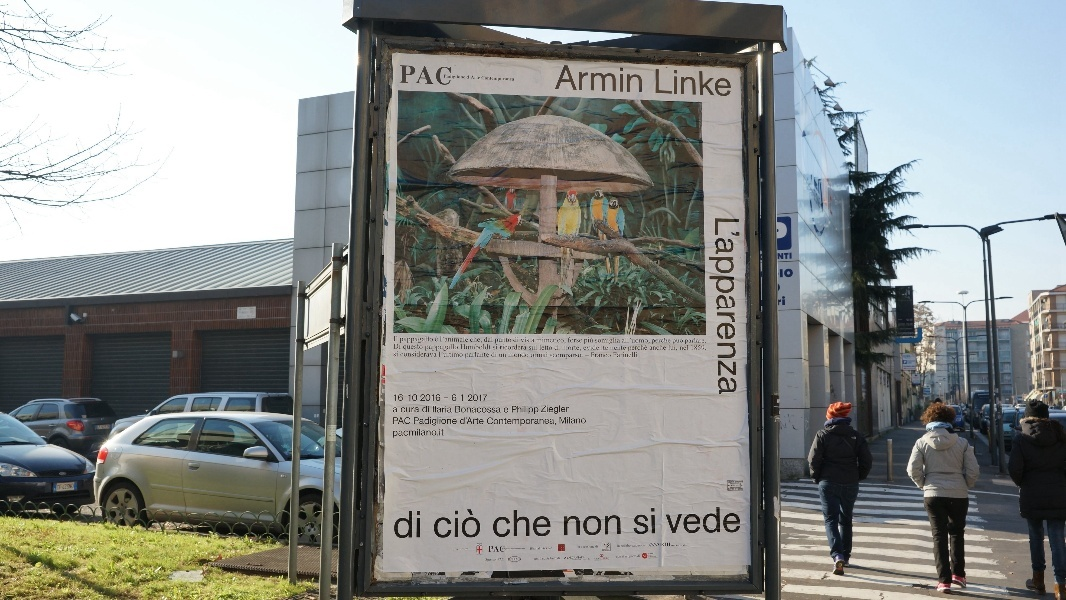text: (705, 217, 720, 398), (721, 217, 736, 398), (737, 217, 744, 398), (449, 504, 464, 539), (465, 504, 480, 539), (434, 504, 448, 539), (401, 509, 416, 539), (497, 508, 512, 538), (513, 508, 528, 538), (529, 508, 544, 538), (577, 64, 592, 93), (593, 64, 608, 93), (609, 64, 624, 93), (625, 64, 640, 93), (657, 68, 672, 97), (673, 68, 688, 97), (689, 68, 704, 97), (705, 68, 720, 97), (673, 505, 688, 534), (689, 505, 704, 534), (705, 505, 720, 534), (721, 505, 736, 534), (641, 508, 656, 535), (564, 64, 576, 93), (721, 68, 733, 97), (577, 515, 592, 537), (593, 515, 608, 537), (401, 65, 416, 86), (417, 65, 432, 86), (433, 65, 448, 86), (609, 515, 622, 537), (564, 515, 576, 537), (664, 505, 672, 534), (545, 508, 552, 538), (703, 217, 704, 398), (401, 427, 416, 439), (417, 427, 432, 439), (545, 405, 560, 417), (513, 405, 528, 416), (497, 417, 512, 428), (513, 417, 528, 428), (529, 417, 544, 428), (433, 427, 446, 439), (417, 417, 432, 427), (433, 417, 448, 427), (595, 337, 608, 348), (545, 417, 558, 428), (481, 504, 485, 539), (635, 508, 640, 535), (657, 337, 672, 346), (465, 417, 480, 426), (561, 416, 576, 425), (609, 337, 621, 348), (529, 405, 540, 416), (396, 509, 400, 539), (417, 509, 421, 539), (401, 337, 416, 345), (417, 337, 432, 345), (401, 350, 416, 358), (417, 350, 432, 358), (433, 344, 448, 352), (465, 352, 480, 360), (545, 337, 560, 345), (625, 337, 640, 345), (433, 406, 448, 414), (465, 406, 480, 414), (481, 406, 496, 414), (737, 505, 741, 534), (628, 344, 640, 353), (561, 405, 570, 417), (449, 351, 464, 358), (465, 344, 480, 351), (497, 338, 512, 345), (513, 344, 528, 351), (561, 354, 576, 361), (593, 352, 608, 359), (689, 338, 704, 345), (401, 407, 416, 414), (487, 417, 496, 428), (577, 416, 588, 425), (785, 268, 794, 279), (562, 345, 576, 352), (404, 344, 416, 352), (513, 352, 529, 358), (452, 394, 464, 402), (468, 394, 480, 402), (435, 336, 448, 343), (691, 345, 704, 352), (449, 337, 464, 343), (449, 74, 464, 80), (497, 76, 512, 82), (513, 337, 528, 343), (529, 345, 544, 351), (593, 345, 608, 351), (609, 345, 624, 351), (449, 417, 458, 427), (421, 394, 432, 402), (401, 417, 412, 425), (482, 76, 496, 82), (500, 344, 512, 351), (393, 427, 400, 439), (423, 405, 432, 414), (449, 344, 459, 352), (641, 337, 651, 345), (531, 352, 544, 358), (625, 352, 638, 358), (481, 344, 492, 351), (673, 338, 684, 345), (497, 545, 506, 553), (481, 352, 490, 360), (484, 337, 496, 343), (584, 337, 592, 346), (455, 406, 464, 414), (470, 337, 480, 344), (550, 354, 560, 361), (613, 352, 624, 358), (467, 75, 480, 80), (625, 544, 641, 548), (536, 337, 544, 345), (408, 394, 416, 402), (433, 394, 441, 402), (785, 252, 793, 260), (65, 484, 74, 491), (439, 351, 448, 358), (449, 65, 452, 86), (641, 344, 648, 353), (545, 556, 557, 561), (596, 544, 608, 549), (641, 544, 656, 548), (625, 555, 640, 559), (657, 345, 667, 351), (641, 64, 643, 93), (489, 545, 496, 553), (530, 547, 544, 551), (498, 558, 512, 562), (417, 344, 424, 352), (425, 344, 432, 352), (568, 337, 576, 344), (481, 394, 488, 402), (393, 417, 400, 425), (504, 407, 512, 414), (485, 558, 496, 563), (779, 268, 784, 279), (583, 345, 592, 351), (394, 393, 400, 402), (499, 354, 512, 358), (57, 484, 64, 491), (393, 335, 400, 342), (521, 337, 528, 344), (577, 354, 584, 361), (393, 407, 400, 414), (440, 337, 448, 343), (545, 345, 553, 351), (680, 345, 688, 351), (778, 252, 784, 260), (577, 546, 592, 549), (673, 544, 688, 547), (673, 345, 678, 354), (581, 545, 592, 549), (594, 557, 608, 560), (394, 351, 400, 358), (529, 337, 535, 344), (577, 337, 583, 344), (433, 350, 438, 358), (561, 337, 566, 345), (497, 406, 502, 414), (577, 556, 586, 560), (394, 344, 400, 350), (554, 345, 560, 351), (652, 337, 656, 346), (650, 345, 656, 351), (668, 345, 672, 354), (481, 417, 485, 426), (541, 405, 544, 417), (577, 345, 582, 352), (545, 547, 553, 551), (460, 394, 464, 402), (449, 406, 453, 414), (495, 508, 496, 538), (534, 558, 544, 561), (539, 345, 544, 351), (655, 68, 656, 97), (569, 556, 576, 560), (617, 544, 624, 548), (401, 393, 404, 402), (461, 417, 464, 426), (513, 548, 526, 550), (513, 558, 519, 562), (604, 543, 608, 549), (616, 556, 624, 559), (648, 557, 656, 560), (465, 337, 469, 343), (444, 74, 448, 80), (492, 352, 496, 358), (728, 481, 736, 484), (728, 488, 736, 491), (453, 549, 464, 551), (782, 296, 784, 307), (741, 485, 752, 487), (461, 344, 464, 351), (493, 344, 496, 351), (609, 352, 612, 359), (685, 338, 688, 345), (705, 345, 708, 352), (417, 407, 420, 414), (737, 488, 744, 491), (414, 417, 416, 427), (503, 548, 512, 550), (509, 352, 512, 358), (545, 352, 548, 358), (737, 481, 743, 484), (540, 557, 544, 561), (622, 337, 624, 345), (728, 485, 736, 487), (459, 548, 464, 551), (731, 484, 736, 487), (649, 553, 656, 555), (481, 337, 483, 344), (585, 355, 592, 357), (705, 338, 707, 345), (465, 548, 469, 551), (621, 544, 624, 548), (637, 554, 640, 558), (513, 76, 515, 82), (625, 345, 627, 351), (737, 484, 741, 487), (785, 296, 786, 307), (542, 556, 544, 561), (477, 554, 480, 557), (557, 557, 560, 560), (593, 337, 594, 346), (593, 545, 595, 549), (622, 555, 624, 559), (433, 337, 434, 345), (417, 394, 418, 402), (444, 397, 448, 399), (495, 338, 496, 345), (497, 344, 498, 351), (591, 352, 592, 359), (481, 554, 483, 557), (609, 543, 610, 549), (401, 344, 402, 350), (465, 74, 466, 80), (497, 558, 498, 563), (511, 558, 512, 562), (671, 544, 672, 547), (657, 557, 658, 560), (449, 397, 450, 399)
